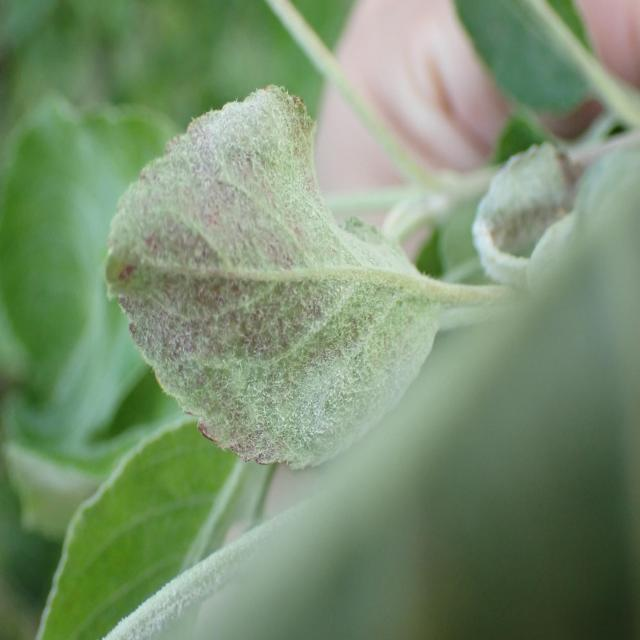Powdery_mildew: (98, 73, 448, 493), (461, 118, 636, 313)
